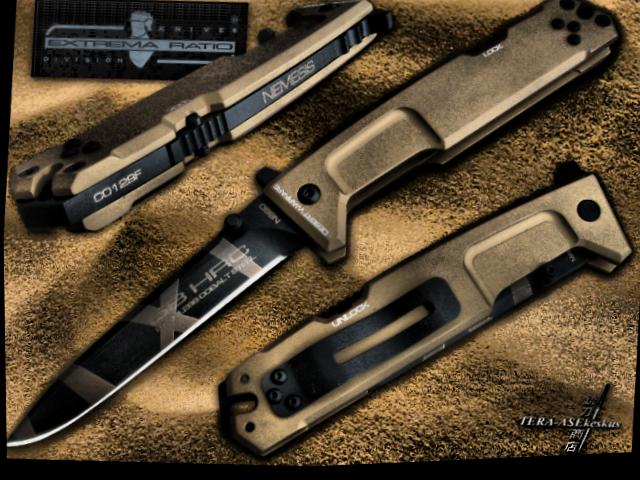knife: (2, 165, 318, 475)
